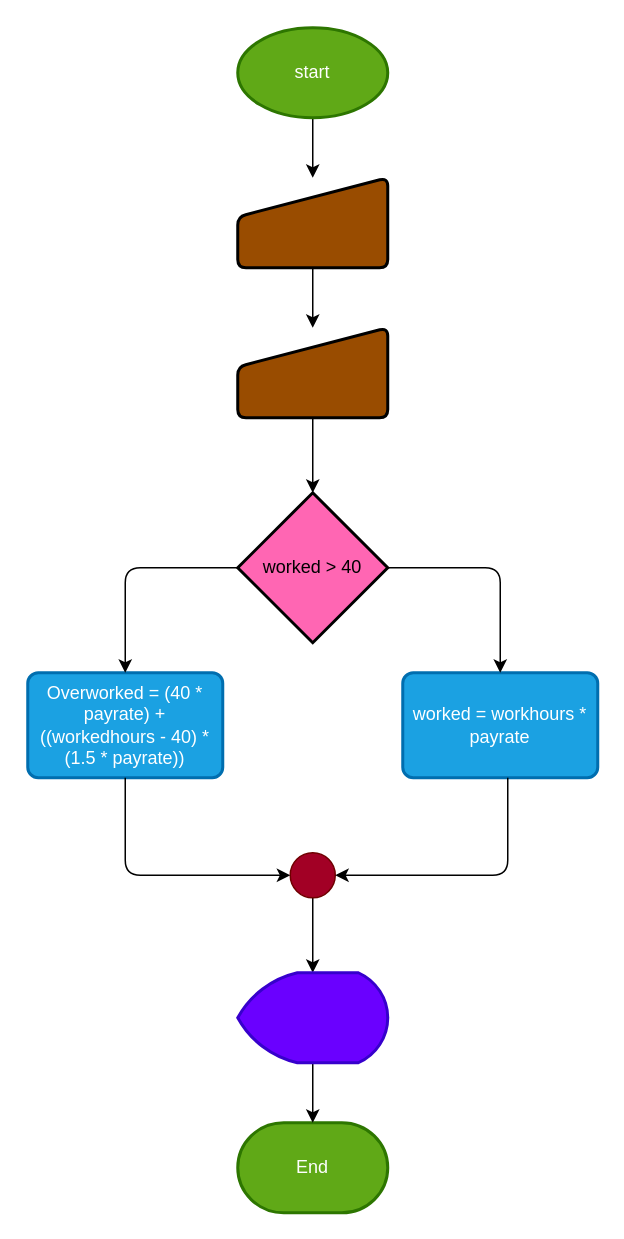
Image size: 624x1239. Some labels were removed from this diagram. The shapes that lost their labels are listed below. From the top down, each one's box as (x1, y1, x2, y2) in pixels, then its label:
(236, 176, 388, 268): workedhours
(236, 326, 388, 418): payrate
(236, 970, 388, 1064): print("the gross pay is $:")
